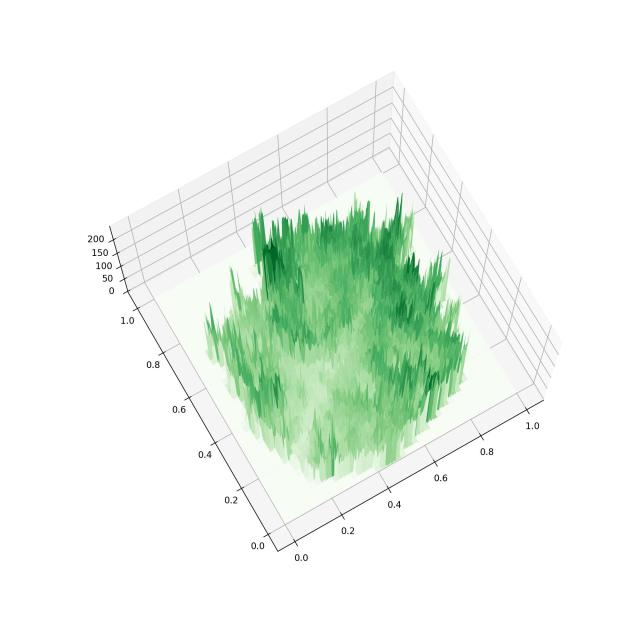spruce: (18, 22, 592, 610)
